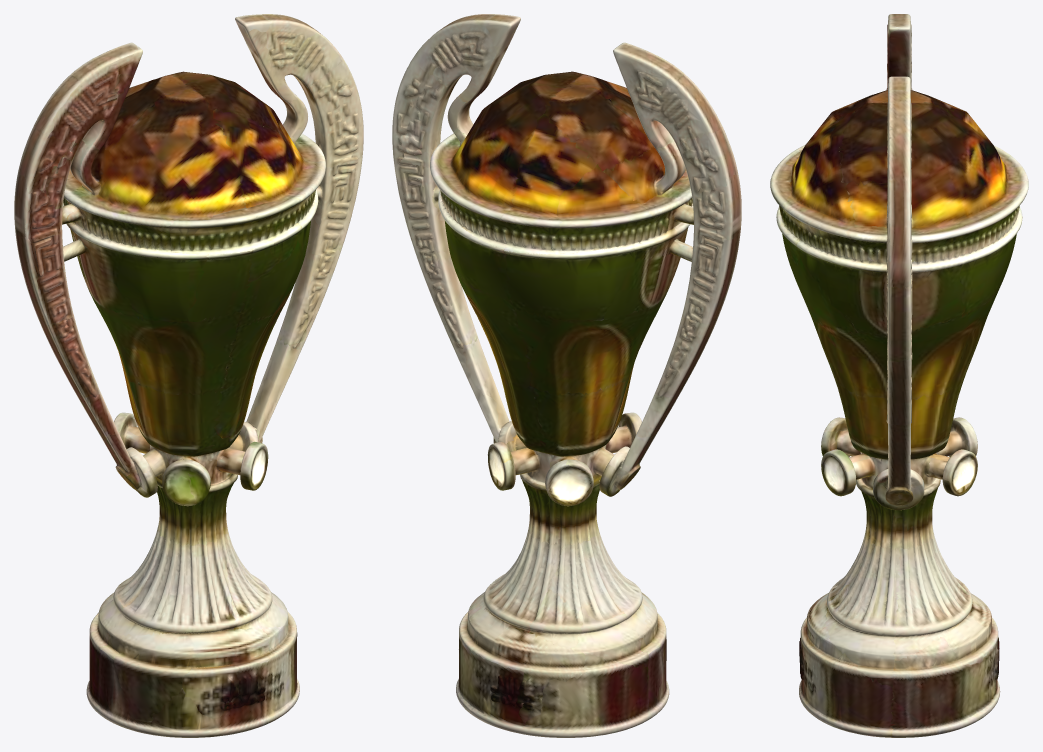
File: egyptian-super-cup.mobile.glb
3 views of the same model, side by side, from view 1: azimuth 30°, elevation 25°; view 2: azimuth 150°, elevation 25°; view 3: azimuth 270°, elevation 25° (orthographic). The views are drawn at different scales.
Parts seen in each view (by area): view 1: mesh_node; view 2: mesh_node; view 3: mesh_node.
Part boxes in pixels (bbox=[...]): mesh_node: bbox=[14, 14, 363, 737]; mesh_node: bbox=[392, 14, 741, 737]; mesh_node: bbox=[770, 14, 1028, 737].
Size of the model in its own units: 1.02 by 1.9 by 0.6935.
1 material, 1 textured.
